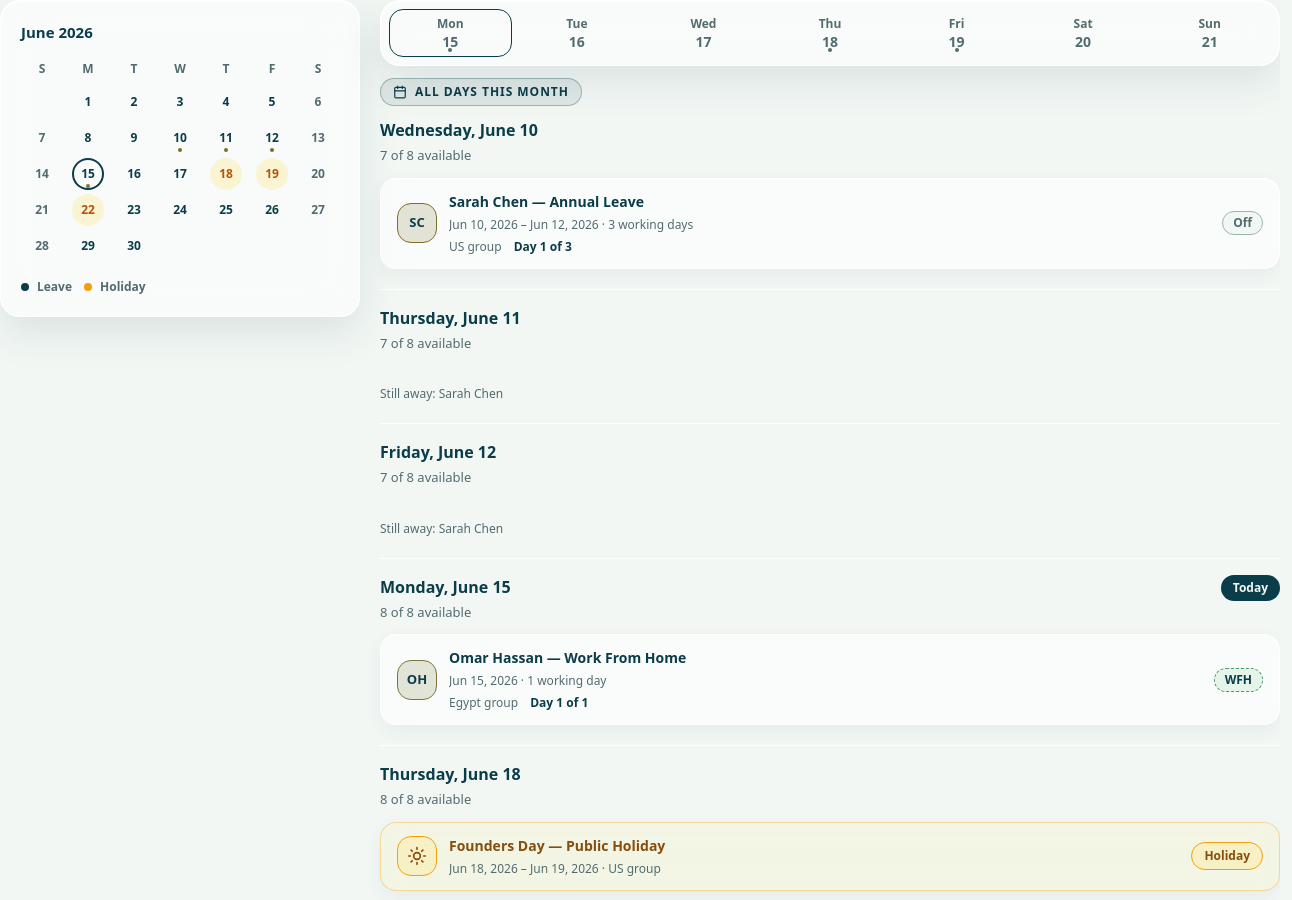
Scenario: CalendarAgenda › [P0] filters inclusively across multi-day leave and clears on a repeated day click
Click the button named "June 11, 1 absence" at (226, 138), box [210, 122, 242, 154]
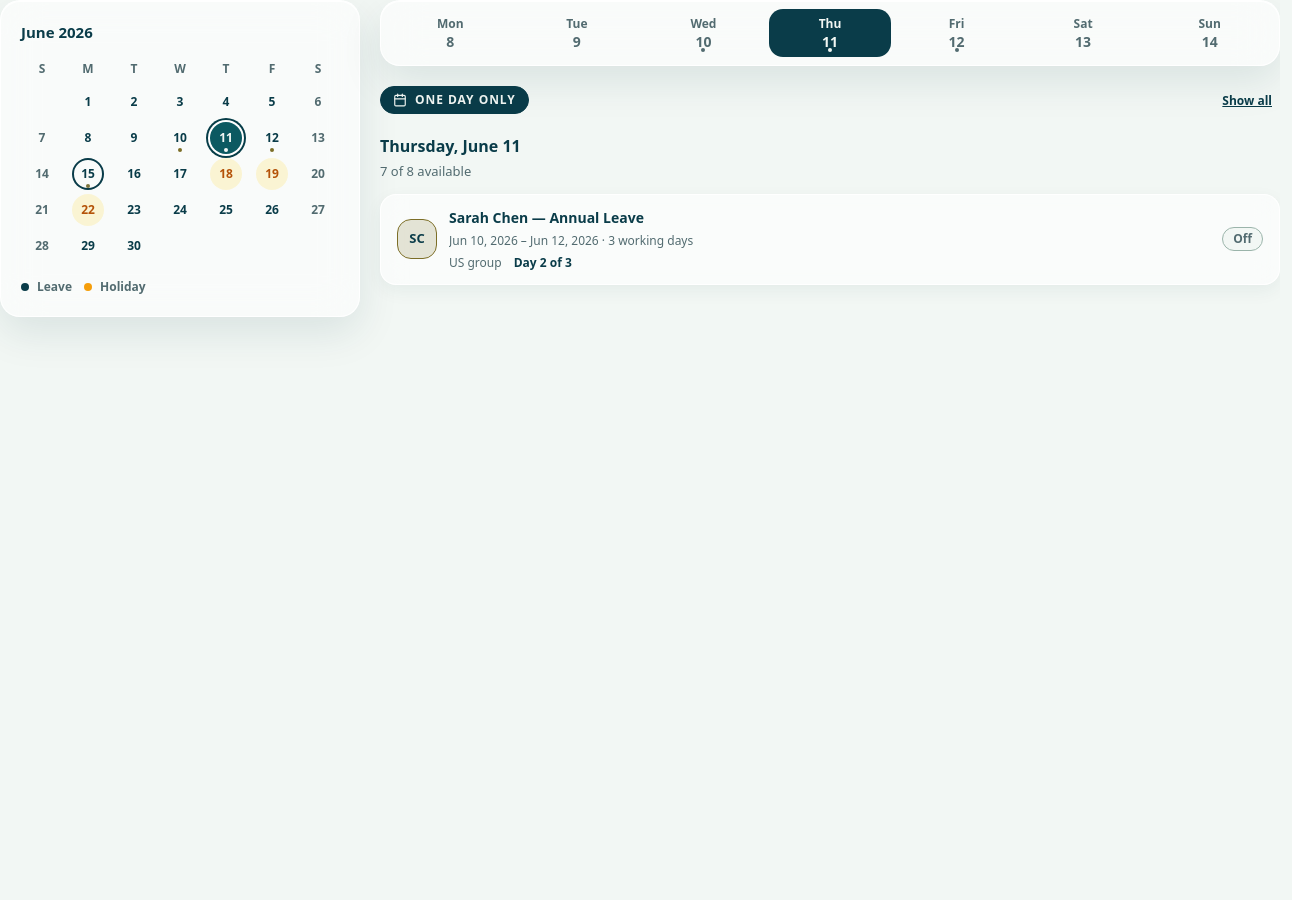
Expected: the text "Sarah Chen — Annual Leave" is shown, [449, 208, 644, 226]
Now the text "Omar Hassan — Work From Home" is gone
Click the button named "June 11, 1 absence" at (226, 138), box [210, 122, 242, 154]
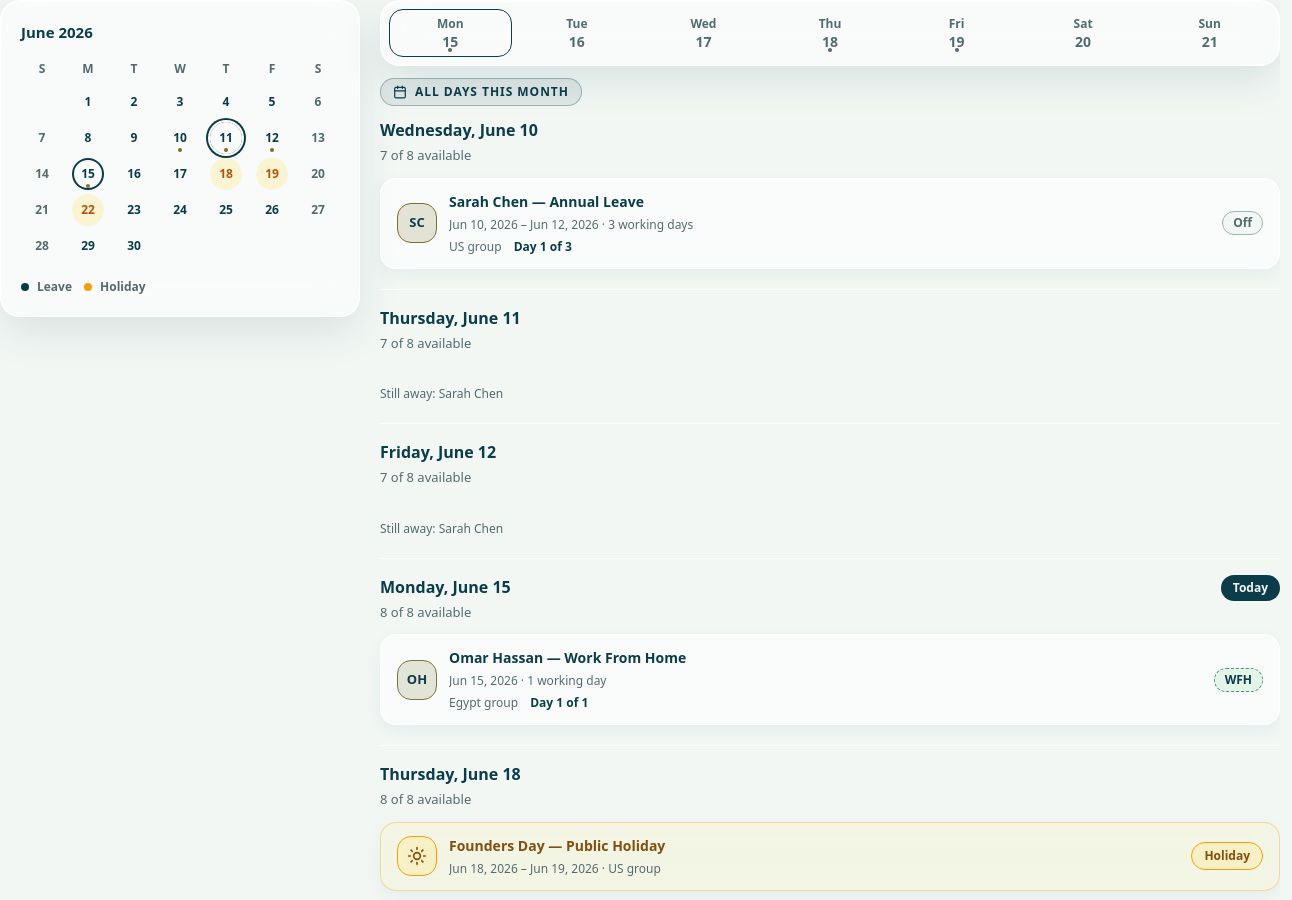
Now the text "Omar Hassan — Work From Home" is shown, box [449, 648, 686, 667]
